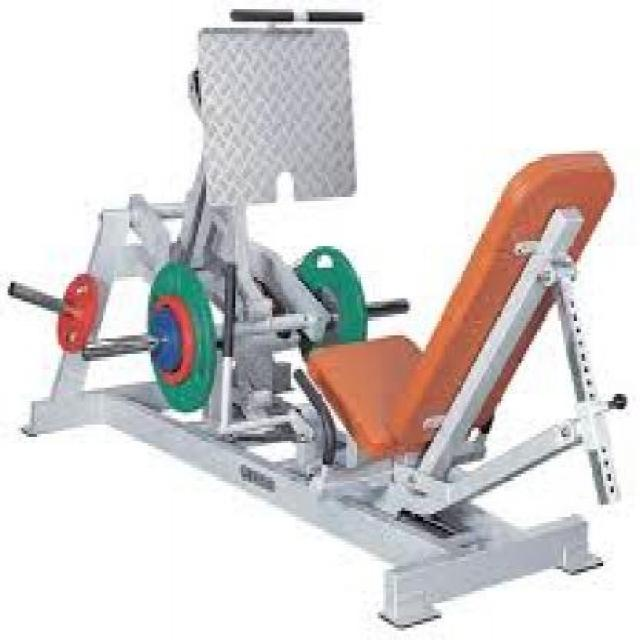leg press: (11, 4, 635, 634)
